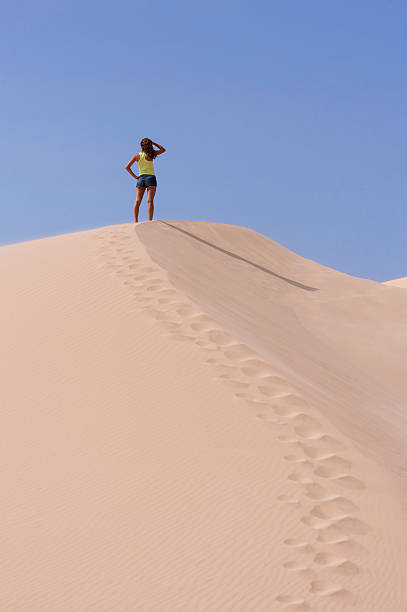human_foot_print: (101, 228, 368, 596)
